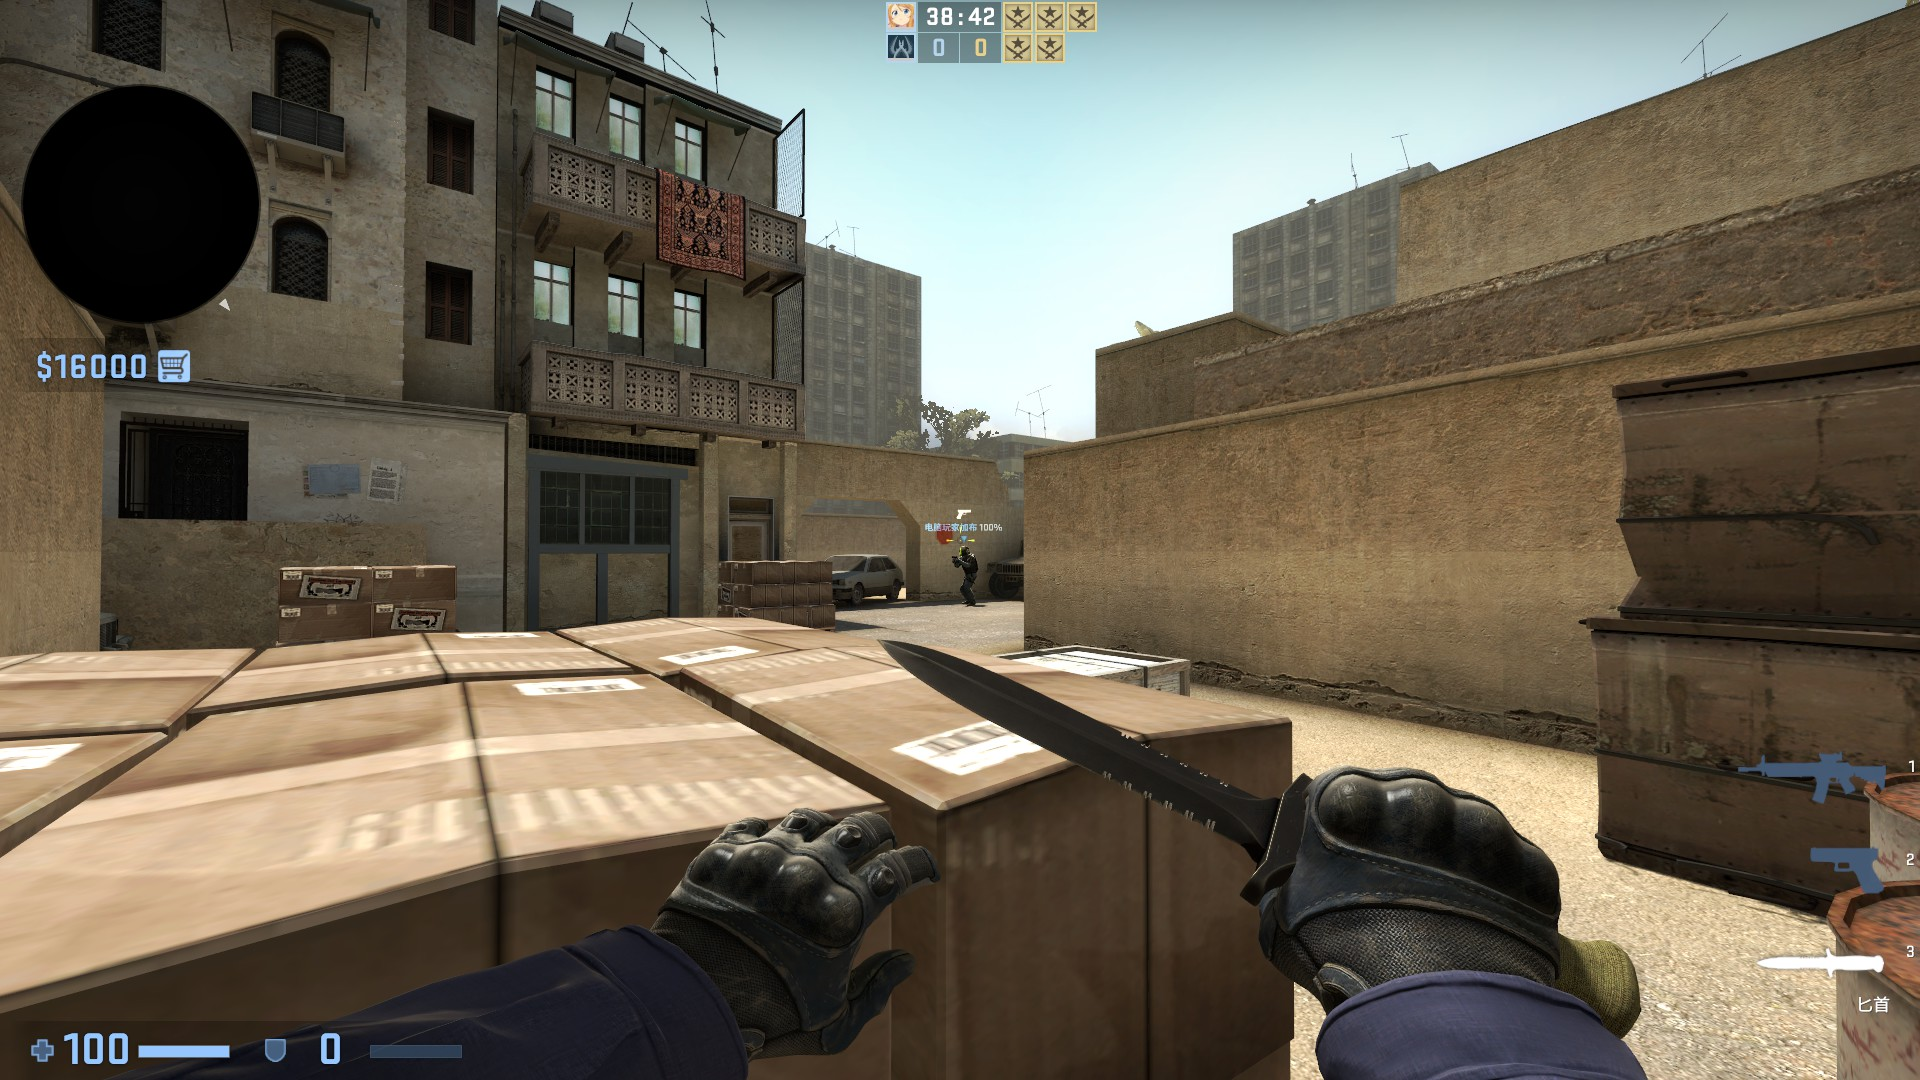head: (958, 545, 969, 556)
